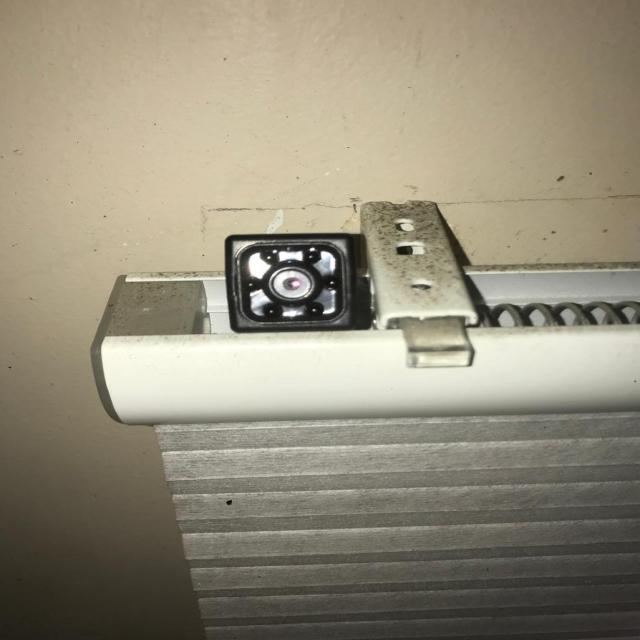hidden camera: (273, 270, 312, 299)
